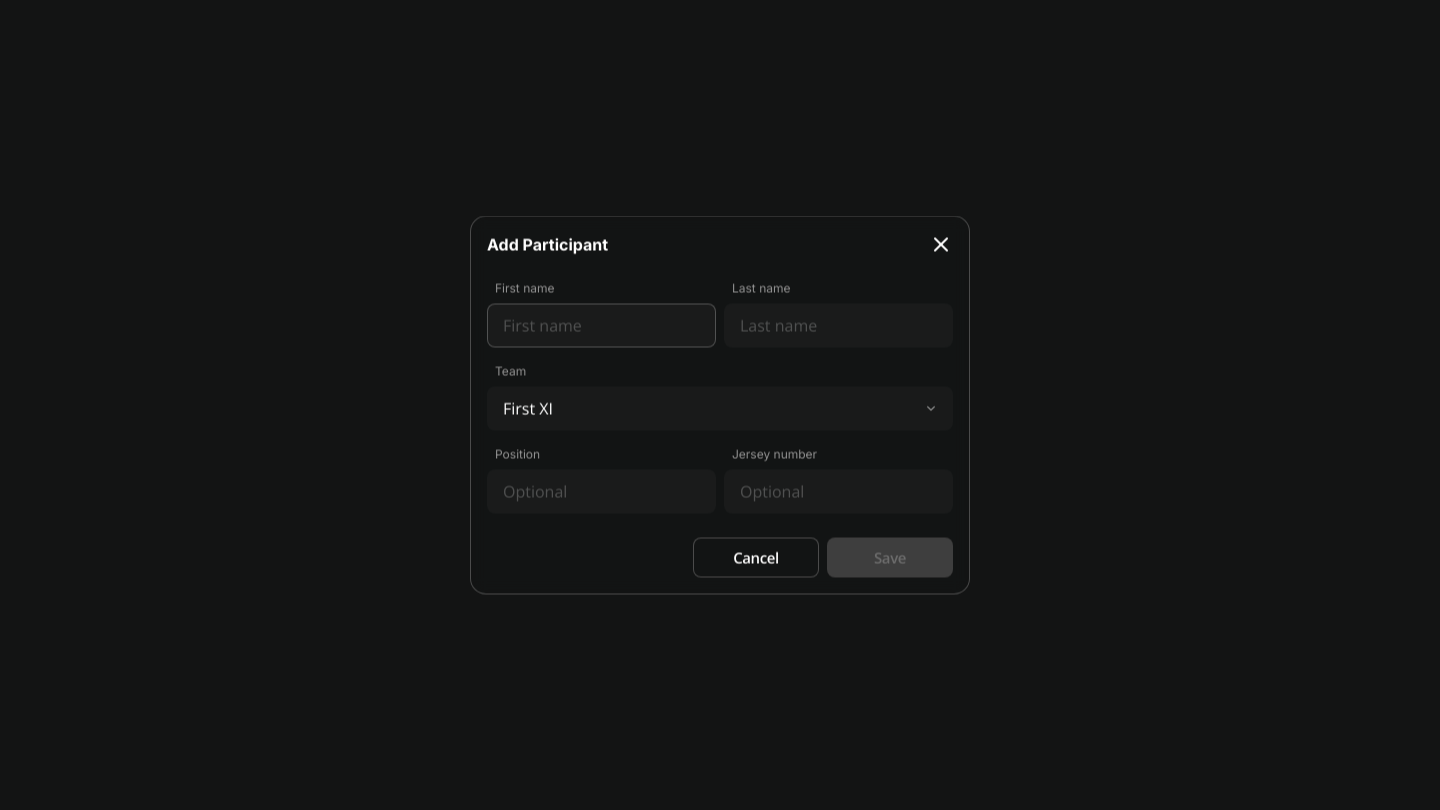
Test: ParticipantFormDialogComponent › rejects a jersey number that is not a whole number
Type "Ana" into the field with placeholder "First name" at (602, 326), box [503,304,700,348]
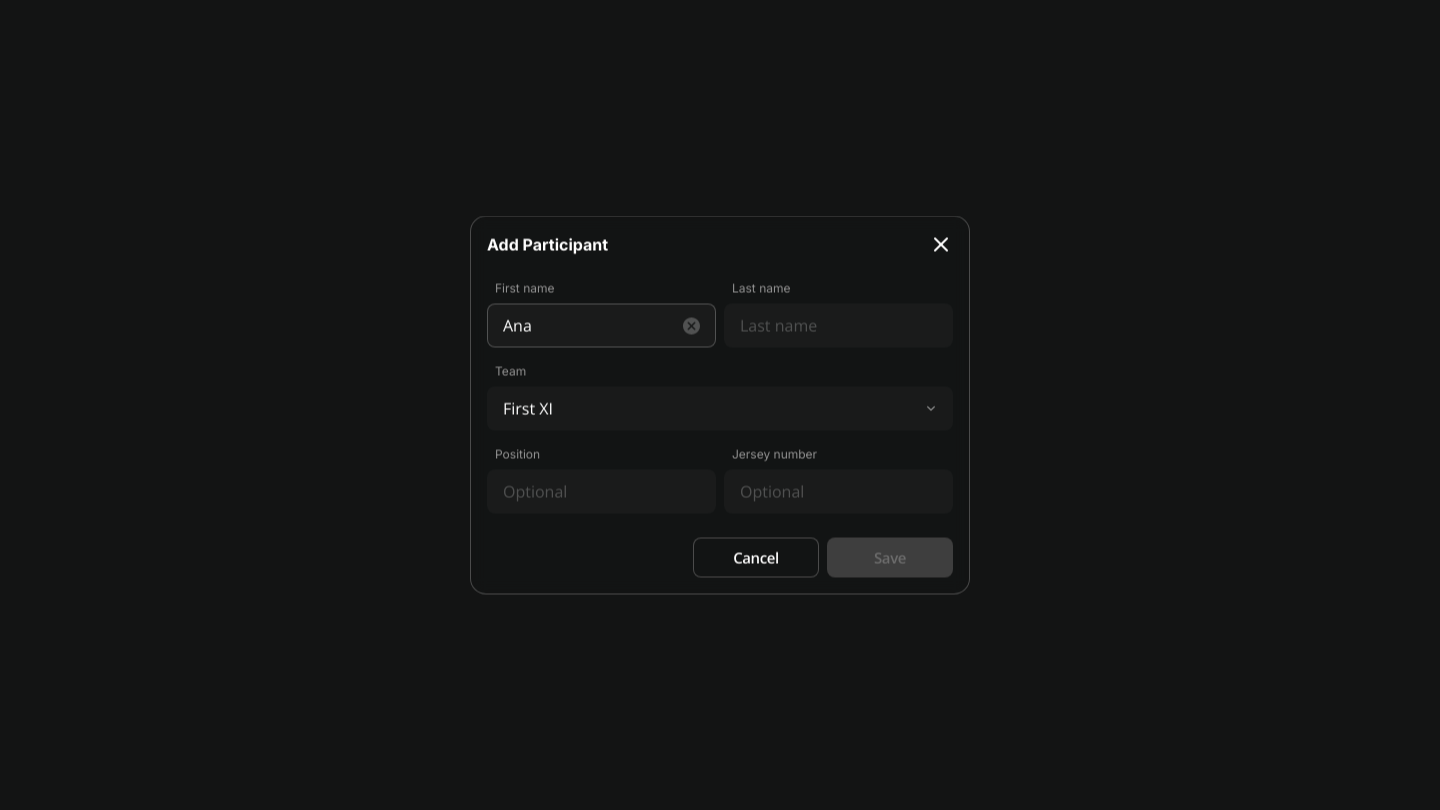
Type "Silva" into the field with placeholder "Last name" at (838, 326), box [740,304,937,348]
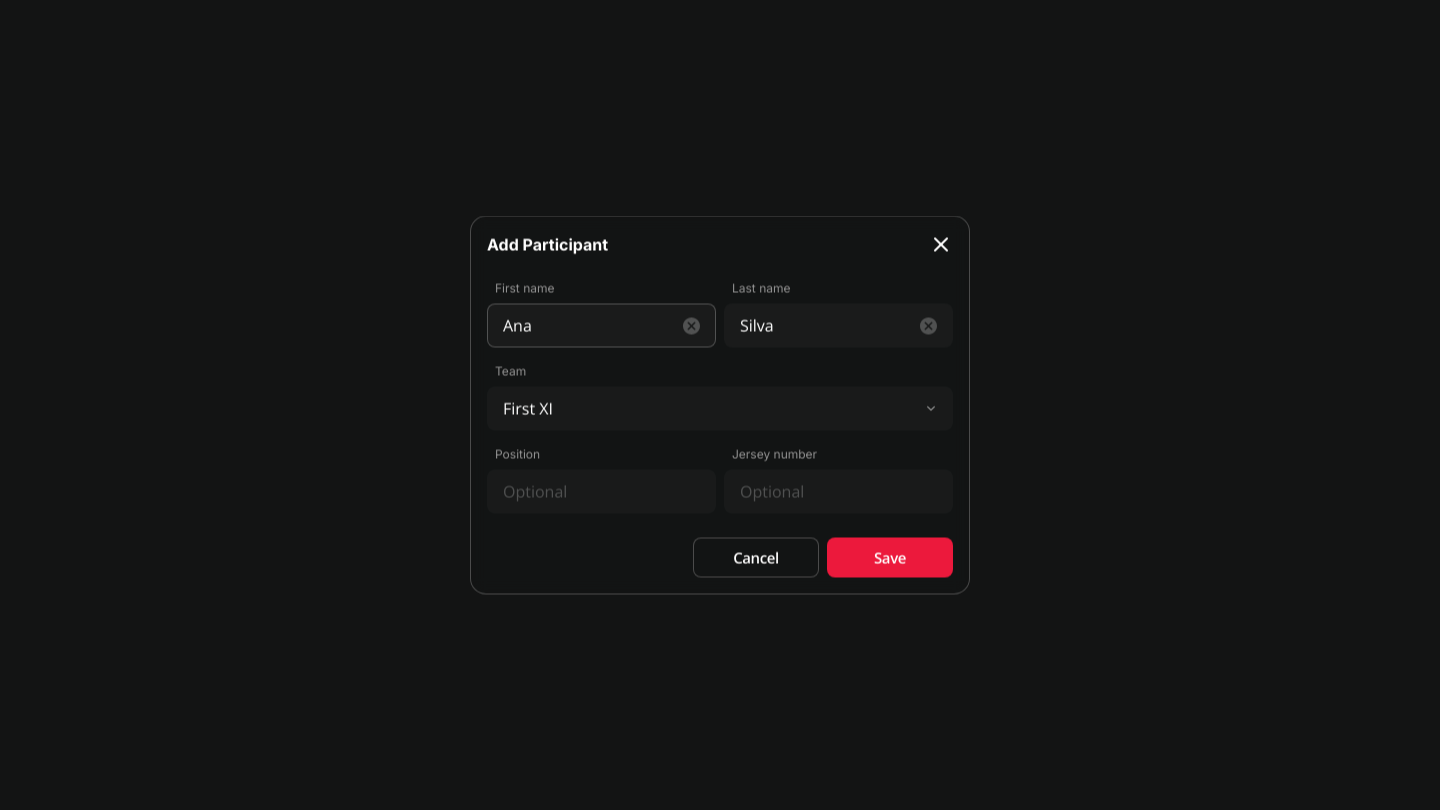
Type "9.5" into the field labelled "Jersey number" at (838, 492), box [740,470,937,514]
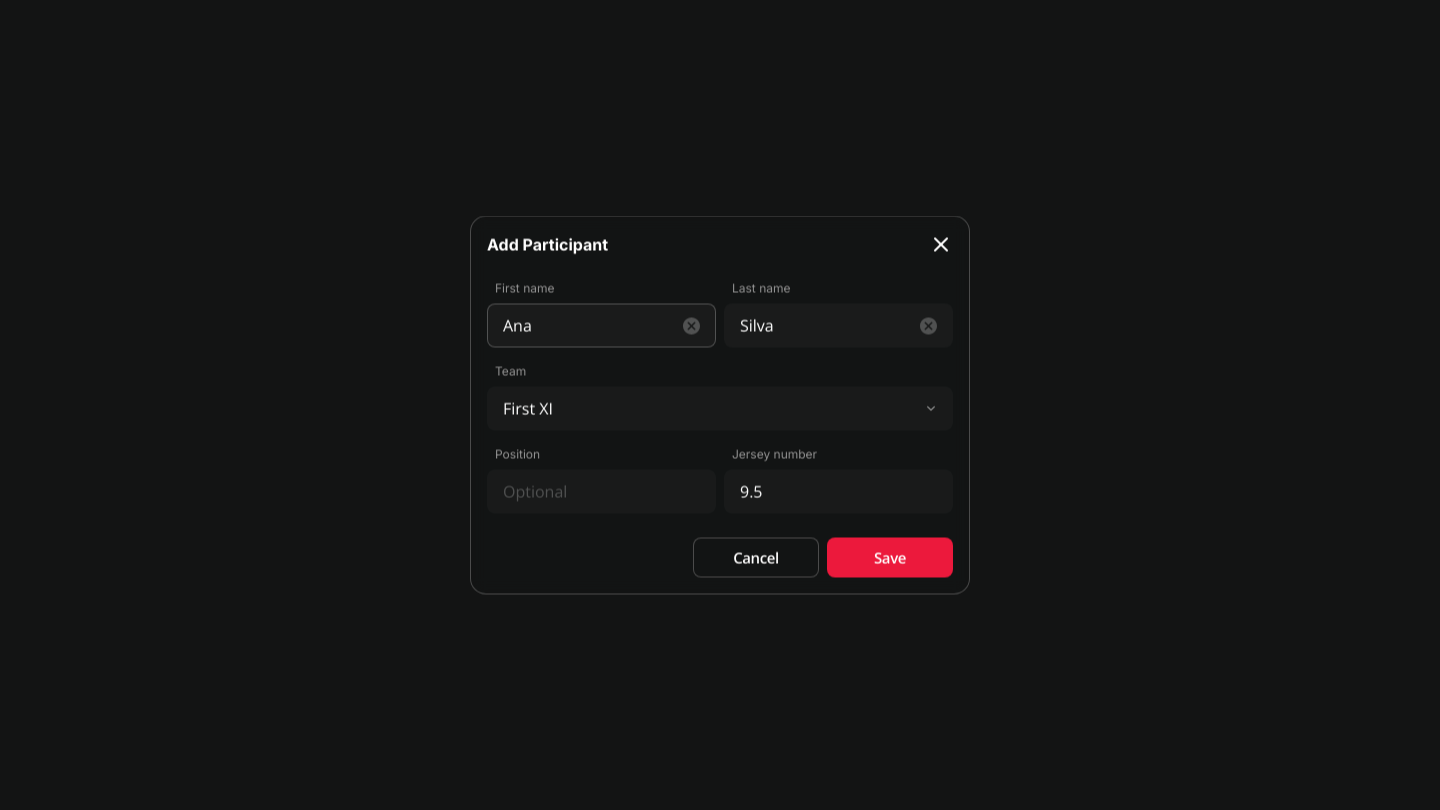
Leave the field labelled "Jersey number", box [740,470,937,514]
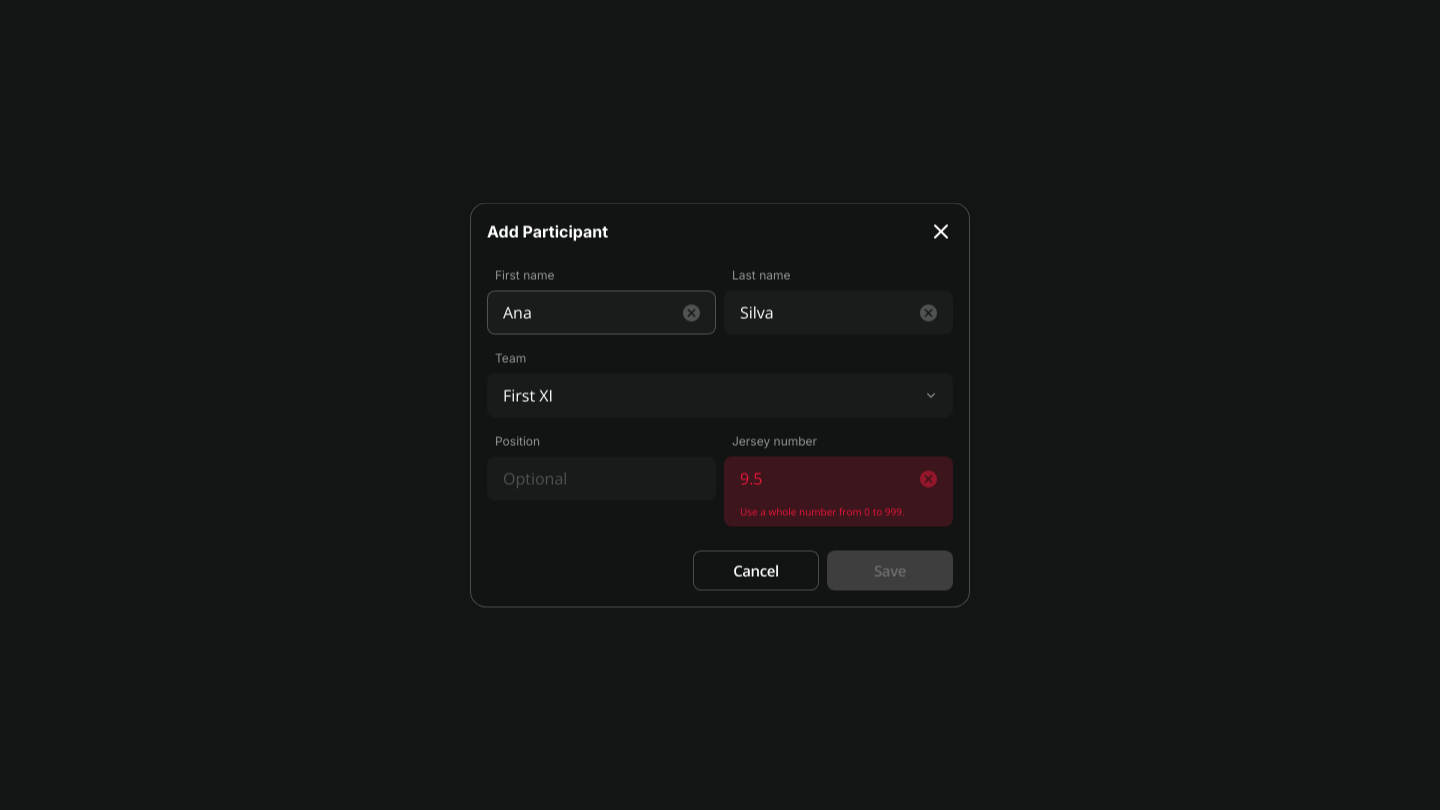
Check: the text "Use a whole number from 0 to 999." is shown, box [740,504,905,518]
Check: the submit button is disabled, box [827,550,953,590]
